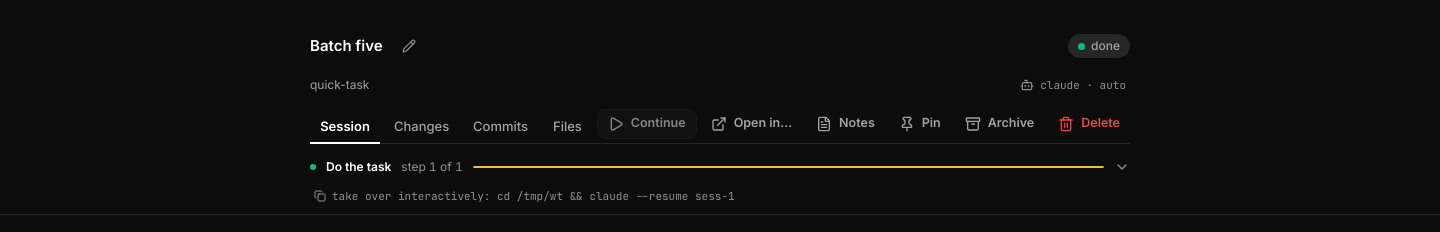
Test case: Q80 / G-21 / G-10 / G-16 the run header › a refused clipboard never reports success: the toast carries the command instead
What coordinates should you click on to do the following:
click the button "take over interactively"
I would click on:
 (720, 196)
Its box is top-left (310, 186), bottom-right (1130, 206).
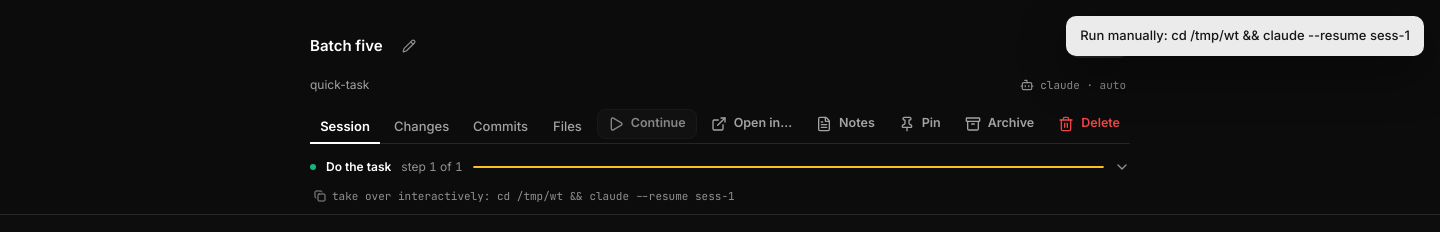
Check: the message shows "Run manually:", box top-left (1080, 27), bottom-right (1410, 43)
